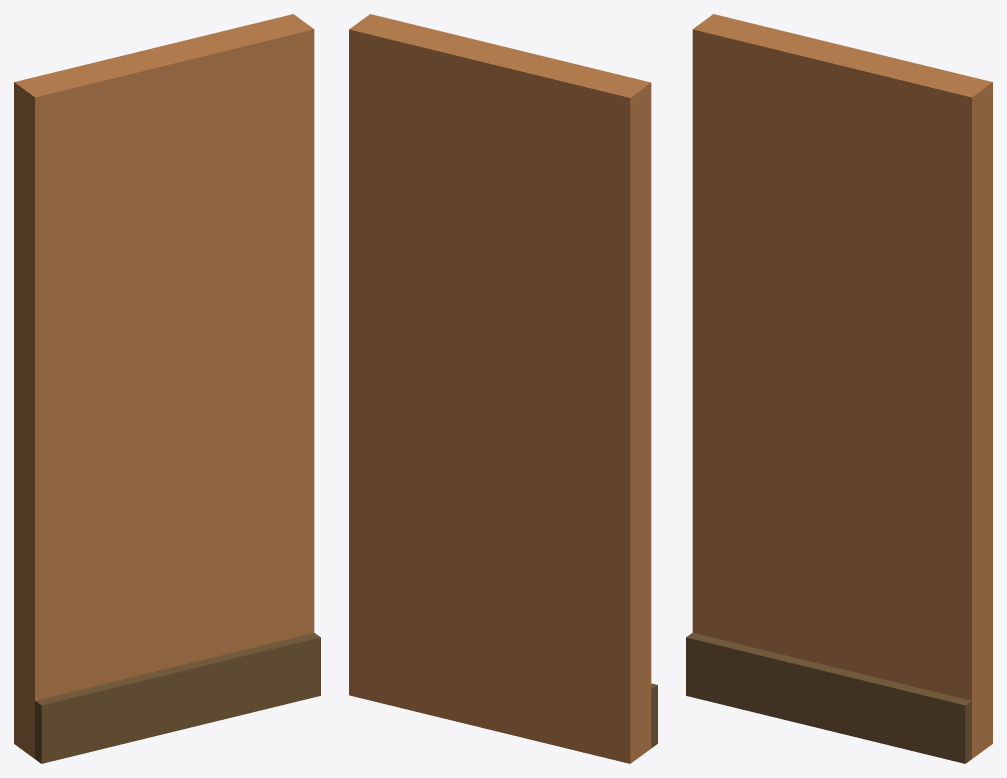
Rendered from C_Wall_Small.fbx.
The picture shows the model from 3 angles, left to right: view 1: azimuth 30°, elevation 25°; view 2: azimuth 150°, elevation 25°; view 3: azimuth 330°, elevation 25°; orthographic projection.
Parts seen in each view (by area): view 1: C_Wall_Small; view 2: C_Wall_Small; view 3: C_Wall_Small.
Part boxes in pixels (bbox=[...]): C_Wall_Small: bbox=[14, 14, 320, 763]; C_Wall_Small: bbox=[349, 14, 657, 763]; C_Wall_Small: bbox=[686, 14, 992, 763].
Size of the model in its own units: 1000 by 170 by 2264.
